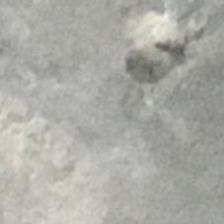Non_Crack: (6, 3, 216, 224)
